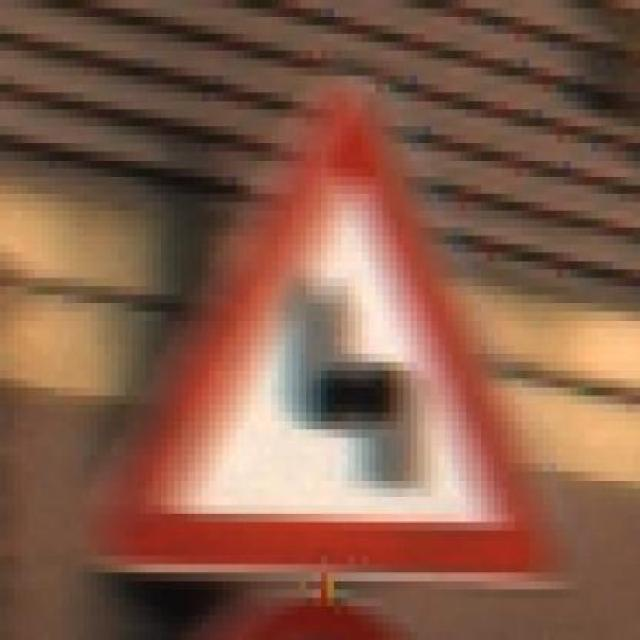Left Zig Zag Traffic: (91, 76, 571, 590)
